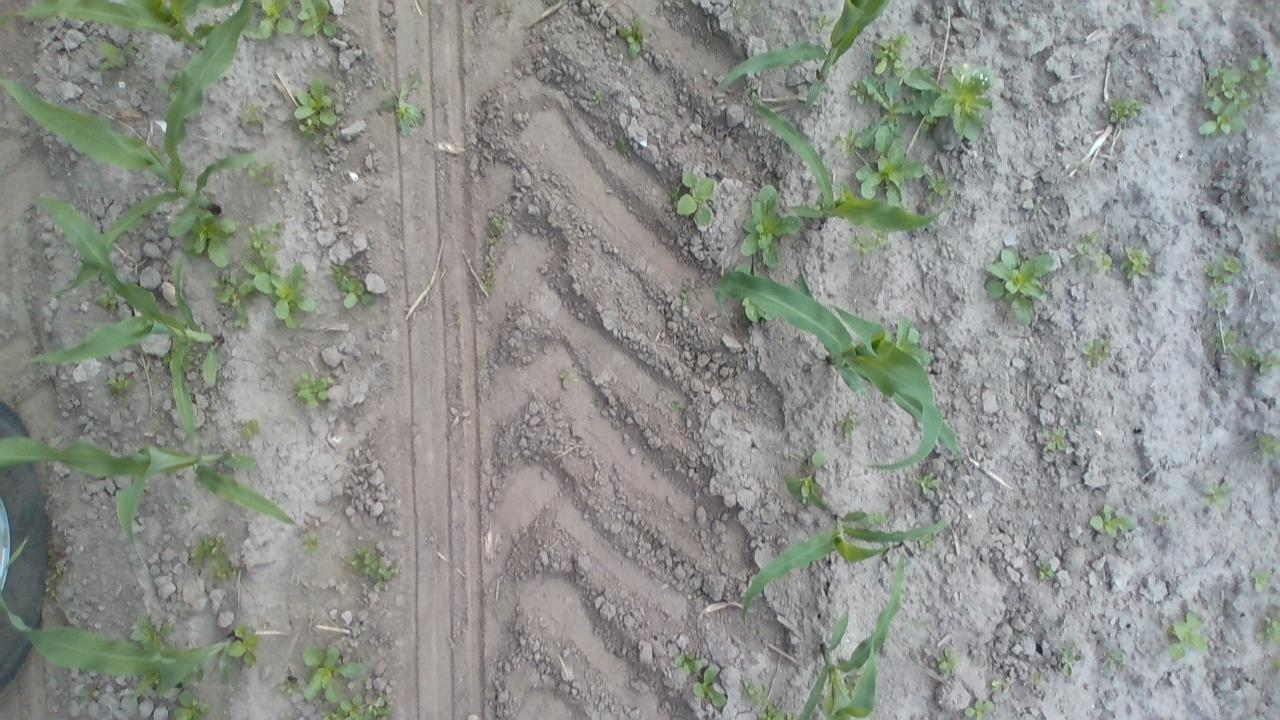Maize: (0, 0, 254, 302), (21, 194, 222, 453), (714, 266, 960, 472), (0, 534, 237, 714), (0, 434, 298, 568), (752, 90, 952, 234), (743, 490, 949, 628), (714, 0, 890, 116), (797, 547, 908, 720), (0, 0, 239, 56)
Weeds: (904, 63, 996, 142), (851, 74, 934, 150), (855, 125, 925, 213), (237, 256, 317, 330), (984, 248, 1054, 328), (740, 184, 802, 268), (300, 644, 366, 703), (1198, 66, 1252, 136), (180, 210, 238, 268), (295, 78, 338, 149), (256, 0, 336, 37), (379, 75, 425, 136), (785, 448, 828, 510), (668, 171, 714, 227), (210, 270, 253, 328), (344, 546, 398, 588), (326, 264, 374, 308), (190, 535, 238, 578), (1166, 610, 1207, 660), (321, 692, 394, 720), (894, 317, 932, 369), (1076, 230, 1112, 275), (130, 613, 172, 651), (292, 369, 332, 408), (242, 222, 283, 260), (1088, 504, 1136, 536), (872, 32, 908, 74), (693, 665, 727, 709), (1228, 347, 1280, 373), (228, 624, 260, 665), (1204, 254, 1242, 287), (96, 40, 136, 71), (1246, 56, 1276, 96), (851, 227, 889, 258), (174, 690, 212, 720), (618, 15, 644, 58), (742, 295, 778, 324), (162, 341, 195, 372), (1082, 336, 1112, 370), (1106, 95, 1142, 123), (1120, 245, 1150, 278), (1254, 609, 1280, 644), (742, 678, 772, 708), (1206, 327, 1240, 351), (1058, 642, 1082, 676), (106, 374, 134, 403), (937, 646, 962, 676), (833, 127, 857, 158), (1042, 426, 1068, 453), (247, 159, 273, 186), (926, 172, 949, 202), (1206, 482, 1230, 510), (912, 471, 941, 494), (964, 699, 994, 720), (674, 652, 702, 674), (97, 289, 119, 315), (836, 416, 860, 439), (1250, 569, 1272, 594), (242, 101, 264, 126), (1259, 433, 1280, 459), (162, 72, 182, 98), (840, 674, 859, 701), (1147, 0, 1171, 21), (859, 510, 887, 526), (45, 572, 62, 598), (812, 11, 834, 31), (759, 703, 784, 720), (301, 534, 320, 556), (1036, 559, 1056, 579), (240, 419, 260, 439), (181, 667, 205, 683), (1208, 290, 1228, 308), (278, 680, 299, 697), (692, 278, 708, 300), (918, 532, 936, 550), (1106, 652, 1124, 670), (481, 270, 495, 292), (496, 0, 512, 19), (559, 368, 572, 390), (680, 278, 690, 306), (1074, 159, 1092, 174), (616, 136, 630, 155), (1266, 655, 1280, 674), (734, 262, 752, 276), (1154, 507, 1170, 522), (744, 82, 758, 98), (177, 501, 193, 514), (1030, 670, 1042, 686), (491, 214, 504, 228), (84, 686, 93, 702), (991, 678, 1002, 691), (590, 395, 600, 408), (593, 90, 602, 104), (692, 590, 702, 601), (668, 402, 679, 412), (1032, 202, 1041, 212), (270, 498, 280, 507), (1276, 222, 1280, 244), (786, 712, 796, 720), (490, 237, 498, 244)
